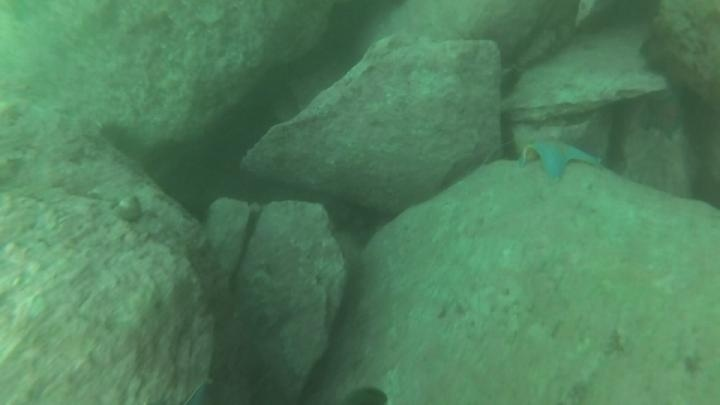echinus: (494, 66, 524, 102)
starfish: (520, 133, 605, 183), (638, 90, 689, 142)
